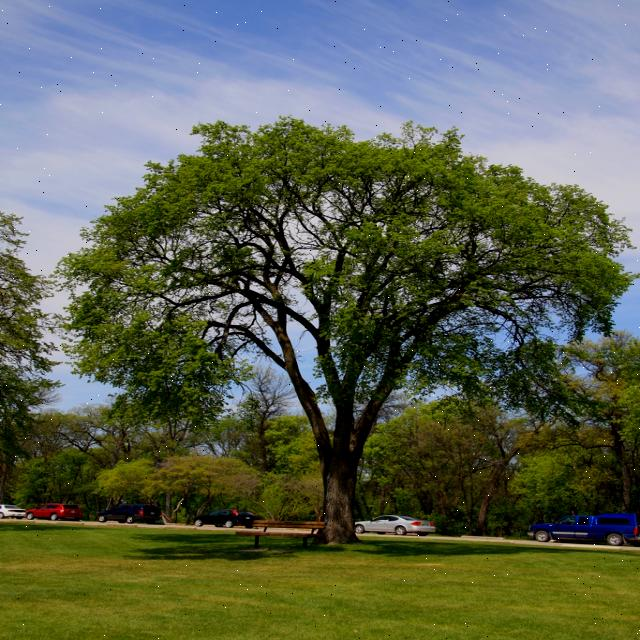Tree: (10, 105, 638, 578)
